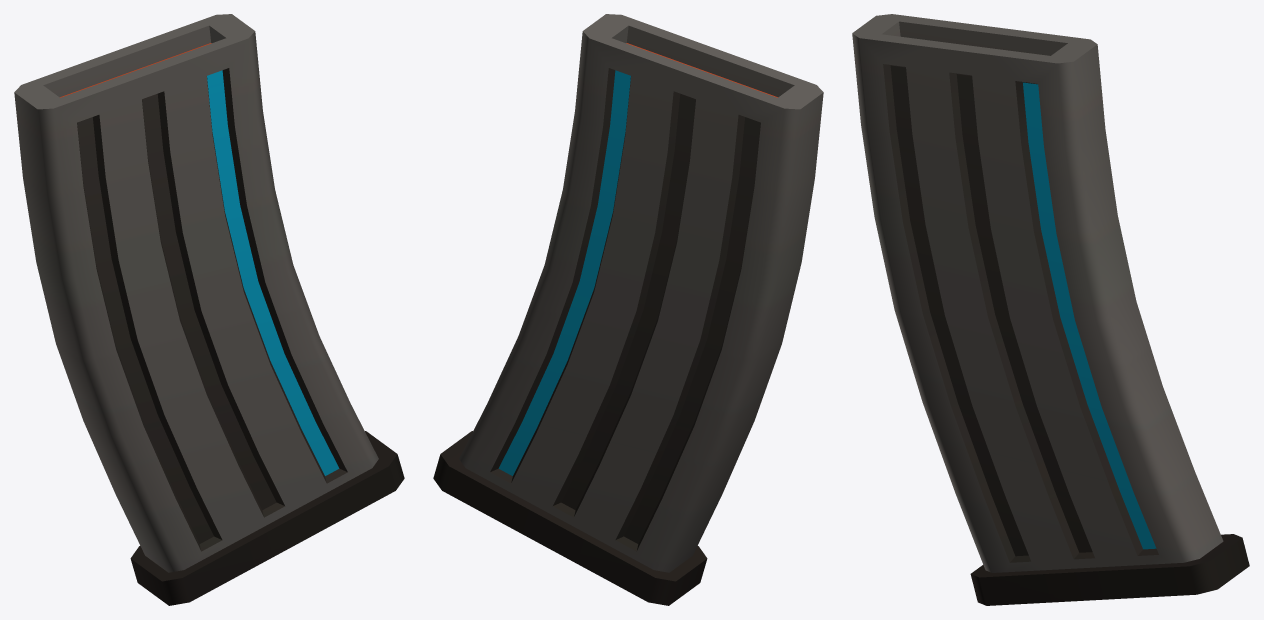
Rendered from AR5_MagazineExtended.fbx.
3 renders of one model, left to right at view 1: azimuth 30°, elevation 25°; view 2: azimuth 150°, elevation 25°; view 3: azimuth 330°, elevation 25°, orthographic.
Visible parts, largest first — view 1: AR5_MagazineExtended; view 2: AR5_MagazineExtended; view 3: AR5_MagazineExtended.
Boxes of the visible parts, x1,y1,x2,y2 form: AR5_MagazineExtended: (14, 14, 404, 605); AR5_MagazineExtended: (433, 14, 823, 605); AR5_MagazineExtended: (852, 14, 1249, 605).
Size of the model in its own units: 13.2 by 19.11 by 2.73.
